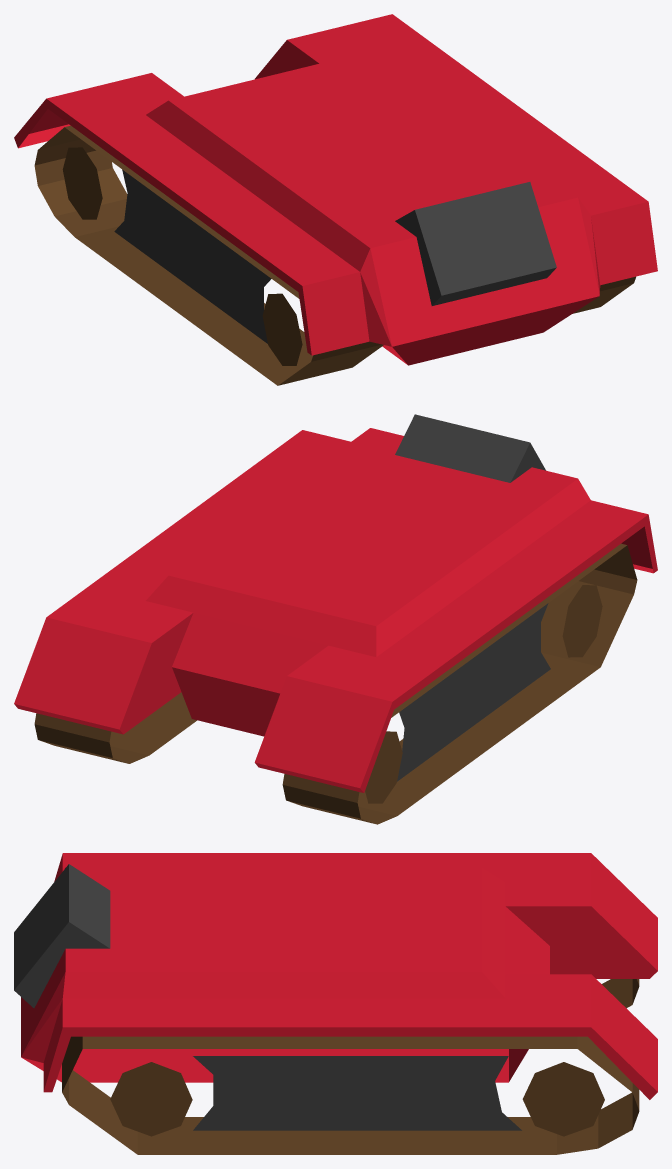
The model's file is Tank.FBX.
3 renders of one model, top to bottom at view 1: azimuth 30°, elevation 25°; view 2: azimuth 150°, elevation 25°; view 3: azimuth 270°, elevation 25°, orthographic. The views are drawn at different scales.
Visible parts, largest first — view 1: VIFS002, VIFS003, VIFS001; view 2: VIFS002, VIFS001, VIFS003; view 3: VIFS002, VIFS001, VIFS003.
Part boxes in pixels (<box>): VIFS002: <box>14,14,657,365</box>; VIFS003: <box>114,169,556,343</box>; VIFS001: <box>34,125,635,385</box>; VIFS002: <box>14,428,657,792</box>; VIFS001: <box>34,543,637,824</box>; VIFS003: <box>395,414,550,781</box>; VIFS002: <box>21,853,657,1099</box>; VIFS001: <box>62,979,639,1154</box>; VIFS003: <box>14,864,521,1130</box>.
Bounding box in the file's own units: 1.2 × 0.58 × 1.87.
